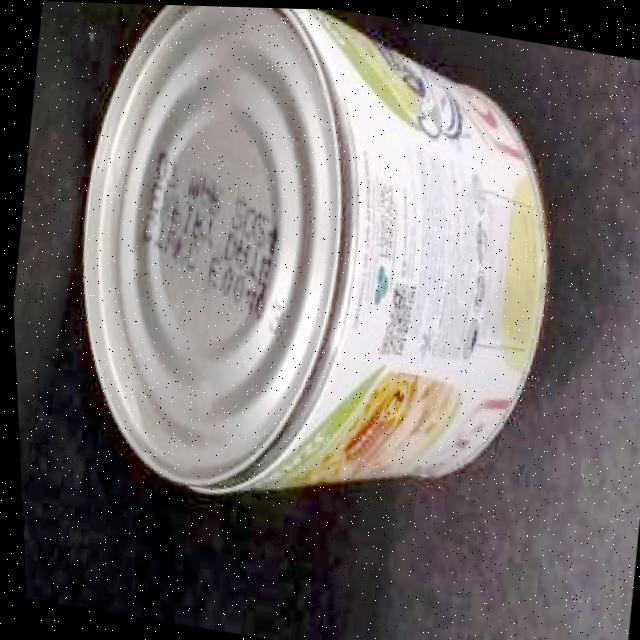Lata: (15, 4, 640, 640)
